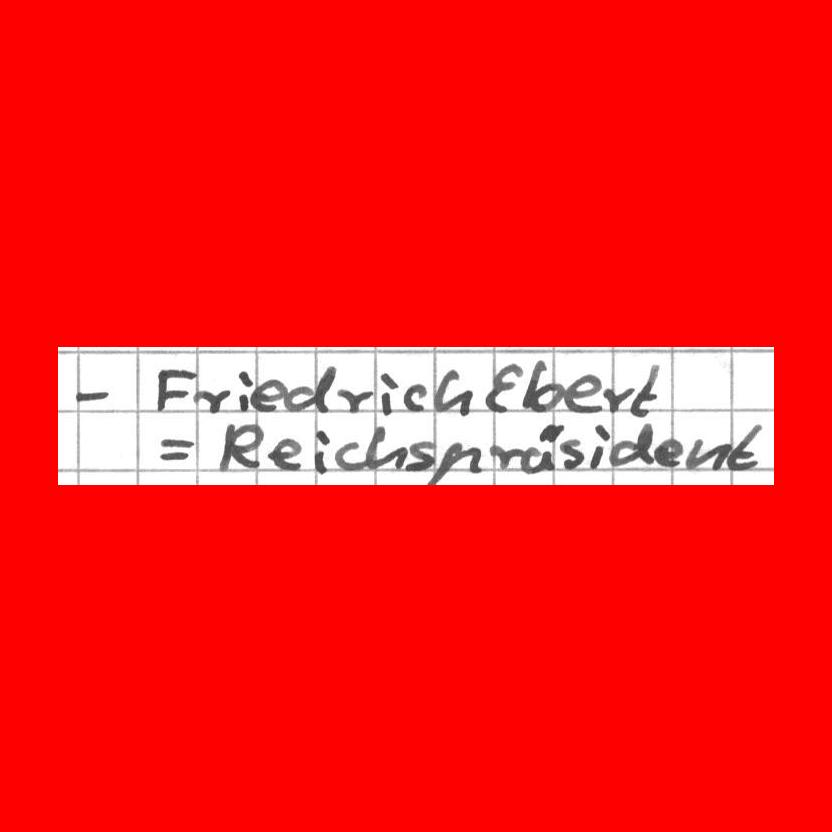Char: (282, 360, 339, 419), (213, 421, 264, 474), (519, 418, 564, 475), (608, 419, 656, 471), (521, 356, 566, 411), (363, 421, 408, 475), (625, 357, 664, 419), (433, 437, 482, 485), (482, 359, 523, 415), (431, 364, 475, 416), (680, 432, 732, 471), (561, 370, 605, 415), (155, 366, 197, 413), (725, 422, 765, 471), (247, 375, 286, 417), (154, 432, 202, 463), (595, 382, 637, 416), (189, 381, 231, 414), (263, 436, 304, 469), (586, 419, 611, 473), (333, 436, 366, 476), (71, 379, 116, 408), (405, 435, 438, 472), (652, 433, 684, 471), (335, 383, 375, 413), (486, 439, 521, 472), (558, 433, 586, 471), (312, 424, 331, 478), (378, 368, 398, 416), (234, 366, 253, 414), (401, 380, 429, 412)
